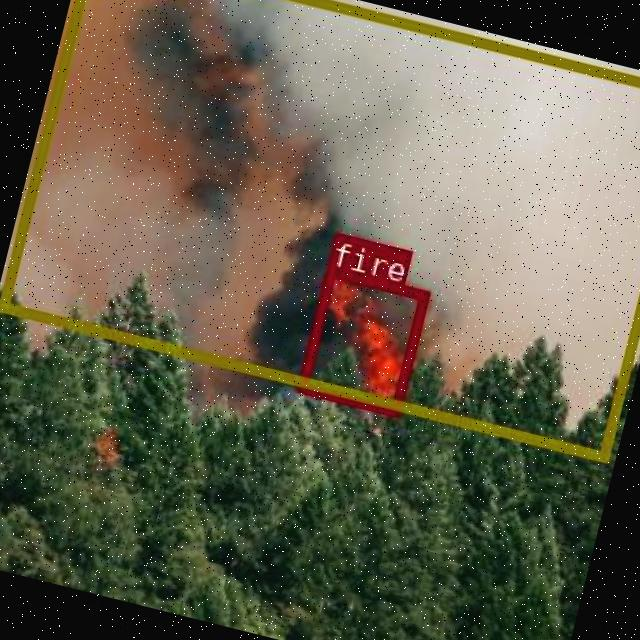fire: (296, 265, 427, 414)
smoke: (0, 0, 640, 461)
